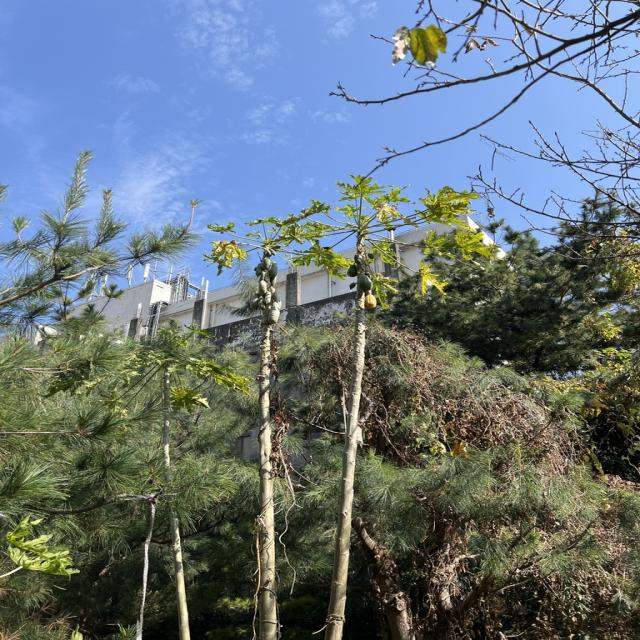Papaya-Tree: (217, 168, 487, 478)
